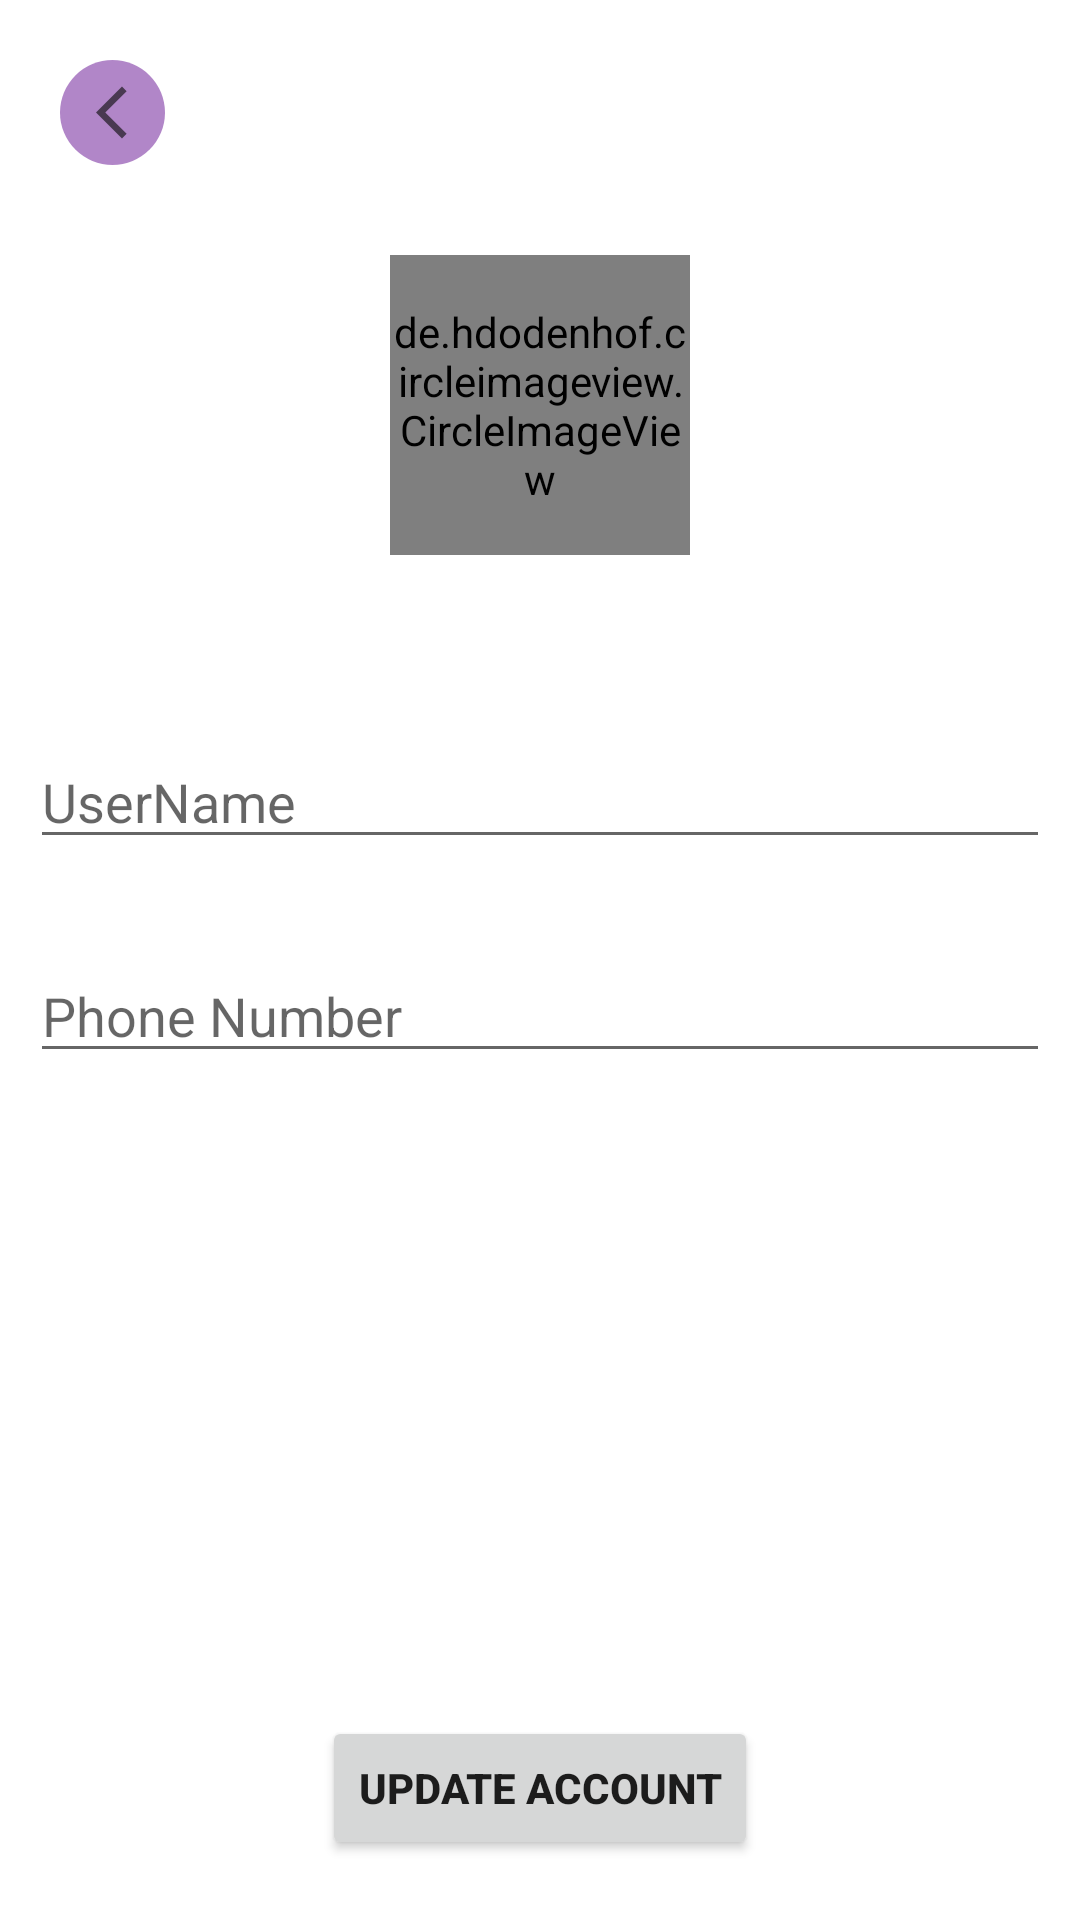

Named icons in this screenshot (1080×1920) and their centers, point (x, y):
back: point (112, 112)
